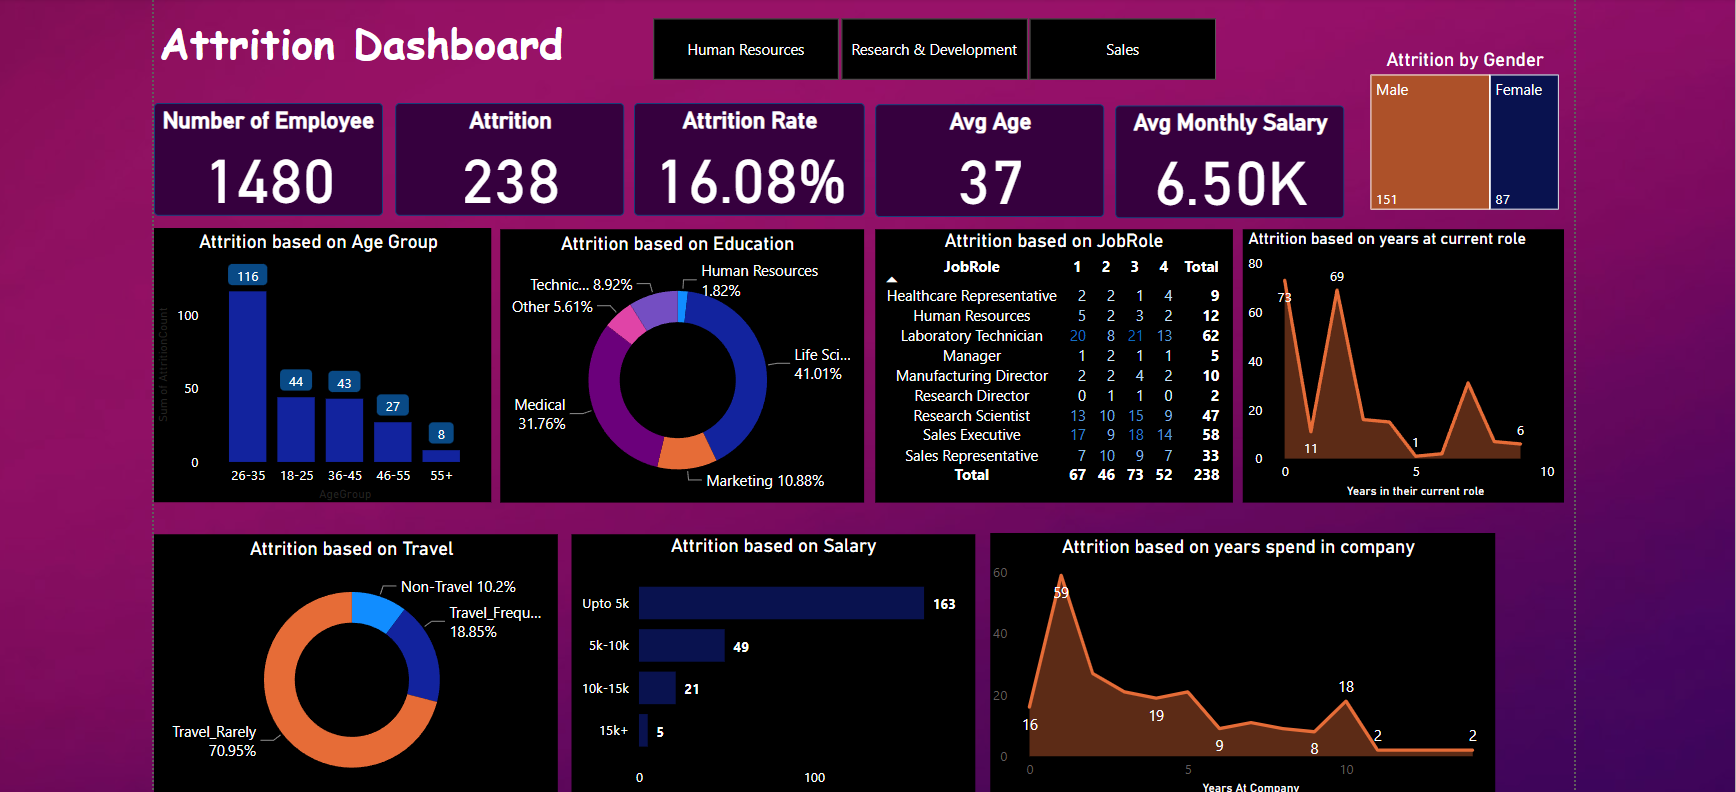

The page's visual inventory and layout, read from the dashboard file:
{"tool":"powerbi","page":{"name":"Page 1","canvas":[1280,720],"ordinal":0},"visuals":[{"type":"card","title":"Number of Employee","fields":{"Values":["Sum(HR_Analytics.EmployeeCount)"]},"box":[0,94.1,206.6,101.5],"z":0},{"type":"card","title":"Attrition","fields":{"Values":["Sum(HR_Analytics.AttritionCount)"]},"box":[217.6,94.1,206.6,101.5],"z":1000},{"type":"card","title":"Attrition Rate","fields":{"Values":["HR_Analytics.AttritionRate"]},"box":[432.7,94.1,207.8,101.5],"z":2000},{"type":"card","title":"Avg Monthly Salary","fields":{"Values":["Avg(HR_Analytics.MonthlyIncome)"]},"box":[866.7,96.6,206.6,101.5],"z":3000},{"type":"card","title":"Avg Age","fields":{"Values":["Avg(HR_Analytics.Age)"]},"box":[650.3,95.3,206.6,101.5],"z":4000},{"type":"lineStackedColumnComboChart","title":"Attrition based on Age Group","fields":{"Category":["HR_Analytics.AgeGroup"],"Series":["HR_Analytics.Attrition"],"Y":["Sum(HR_Analytics.AttritionCount)"]},"box":[0,207.8,304.4,246.9],"z":5000},{"type":"donutChart","title":"Attrition based on Education","fields":{"Y":["CountNonNull(HR_Analytics.Attrition)"],"Series":["HR_Analytics.EducationField"]},"box":[312.6,208.4,327.7,246.8],"z":6000},{"type":"pieChart","title":"Attrition based on Travel","fields":{"Y":["CountNonNull(HR_Analytics.Attrition)"],"Series":["HR_Analytics.BusinessTravel"]},"box":[0,482.9,364.3,237.1],"z":7000},{"type":"pivotTable","title":"Attrition based on JobRole","fields":{"Rows":["HR_Analytics.JobRole"],"Columns":["HR_Analytics.JobSatisfaction"],"Values":["Sum(HR_Analytics.AttritionCount)"]},"box":[649.9,208.4,322.2,246.8],"z":8000},{"type":"treemap","title":"Attrition by Gender","fields":{"Details":["HR_Analytics.Gender"],"Values":["Sum(HR_Analytics.AttritionCount)"]},"box":[1091.6,45.2,179.7,150.4],"z":9000},{"type":"areaChart","title":"Attrition based on years spend in company","fields":{"Category":["HR_Analytics.YearsAtCompany"],"Y":["Sum(HR_Analytics.AttritionCount)"]},"box":[754.1,482.6,455.2,237.2],"z":10000},{"type":"textbox","box":[0,8.6,413.2,70.9],"z":11000},{"type":"clusteredBarChart","title":"Attrition based on Salary","fields":{"Category":["HR_Analytics.SalarySlab"],"Y":["Sum(HR_Analytics.AttritionCount)"]},"box":[376.5,482.9,364.3,237.1],"z":12000},{"type":"slicer","fields":{"Values":["HR_Analytics.Department"]},"box":[424.2,11,557.4,69.7],"z":13000},{"type":"areaChart","title":"Attrition based on years at current role","fields":{"Category":["HR_Analytics.YearsInCurrentRole"],"Y":["Sum(HR_Analytics.AttritionCount)"]},"box":[981.7,208.4,289.3,246.8],"z":14000}]}

Visuals, with their boxes in screenshot pixels (x1, y1, x2, y2):
"Number of Employee" card: <region>0, 116, 142, 226</region>
"Attrition" card: <region>154, 116, 378, 226</region>
"Attrition Rate" card: <region>388, 116, 613, 226</region>
"Avg Monthly Salary" card: <region>858, 118, 1082, 228</region>
"Avg Age" card: <region>623, 117, 847, 227</region>
"Attrition based on Age Group" lineStackedColumnComboChart: <region>0, 239, 248, 506</region>
"Attrition based on Education" donutChart: <region>257, 239, 612, 507</region>
"Attrition based on Travel" pieChart: <region>0, 537, 313, 791</region>
"Attrition based on JobRole" pivotTable: <region>623, 239, 972, 507</region>
"Attrition by Gender" treemap: <region>1101, 63, 1296, 226</region>
"Attrition based on years spend in company" areaChart: <region>736, 537, 1229, 791</region>
textbox: <region>0, 23, 366, 100</region>
"Attrition based on Salary" clusteredBarChart: <region>327, 537, 721, 791</region>
slicer - HR_Analytics.Department: <region>378, 25, 982, 101</region>
"Attrition based on years at current role" areaChart: <region>982, 239, 1296, 507</region>
